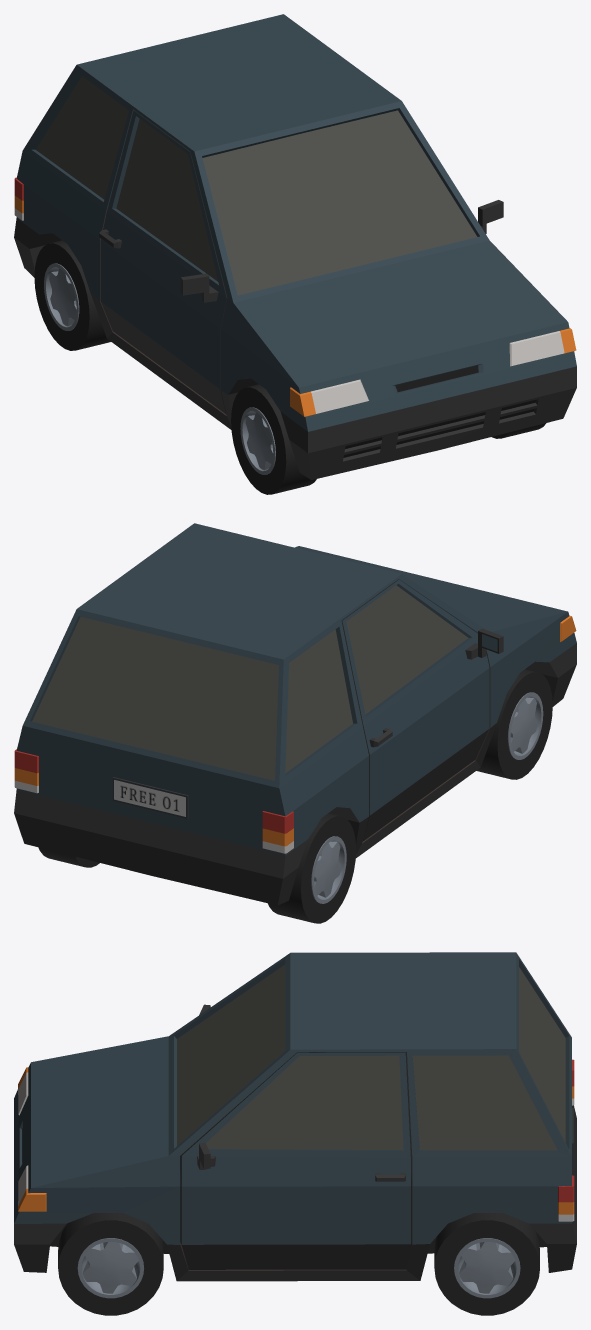
Rendered from car.glb.
3 renders of one model, top to bottom at view 1: azimuth 30°, elevation 25°; view 2: azimuth 150°, elevation 25°; view 3: azimuth 270°, elevation 25°, orthographic. The views are drawn at different scales.
Parts seen in each view (by area): view 1: car body, windows, door r, win door r.001, wheel fr, wheel br; view 2: car body, windows, door r, win door r.001, wheel br, wheel fr, free number; view 3: car body, door l, windows, win door l.001, wheel bl, wheel fl.
Part boxes in pixels (x1,y1,x2,y2): car body: [14, 14, 576, 479]; windows: [36, 76, 477, 295]; door r: [99, 110, 227, 414]; win door r.001: [116, 119, 218, 281]; wheel fr: [231, 384, 316, 494]; wheel br: [34, 240, 110, 350]; car body: [14, 523, 576, 905]; windows: [32, 617, 352, 780]; door r: [341, 579, 503, 841]; win door r.001: [346, 585, 468, 714]; wheel br: [268, 813, 356, 923]; wheel fr: [476, 669, 552, 779]; free number: [112, 777, 188, 818]; car body: [14, 952, 576, 1281]; door l: [180, 1052, 412, 1269]; windows: [177, 964, 565, 1150]; win door l.001: [206, 1055, 403, 1149]; wheel bl: [434, 1213, 539, 1315]; wheel fl: [58, 1213, 163, 1315].
Size of the model in its own units: 1.44 by 1.13 by 2.29.
Materials: 2 (2 with a texture image).
